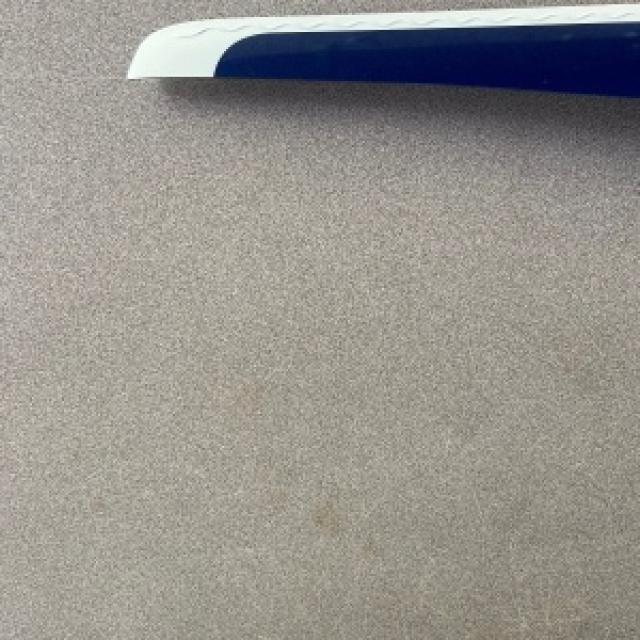healthy: (128, 4, 638, 96)
